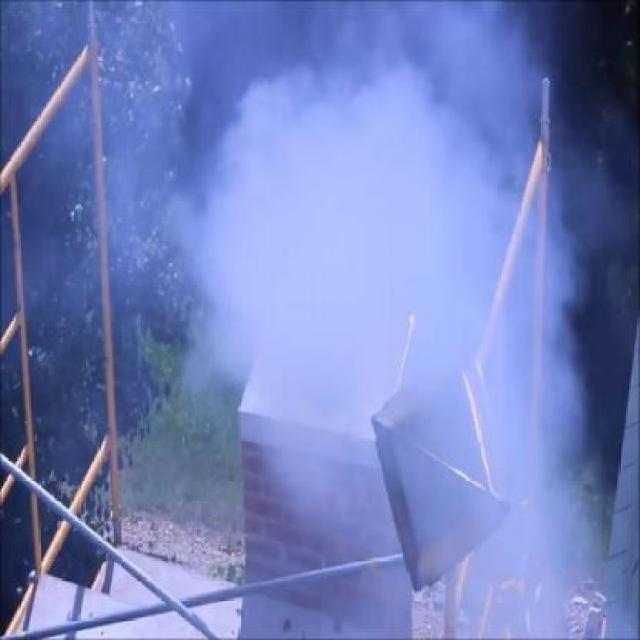smoke: (191, 35, 477, 328)
